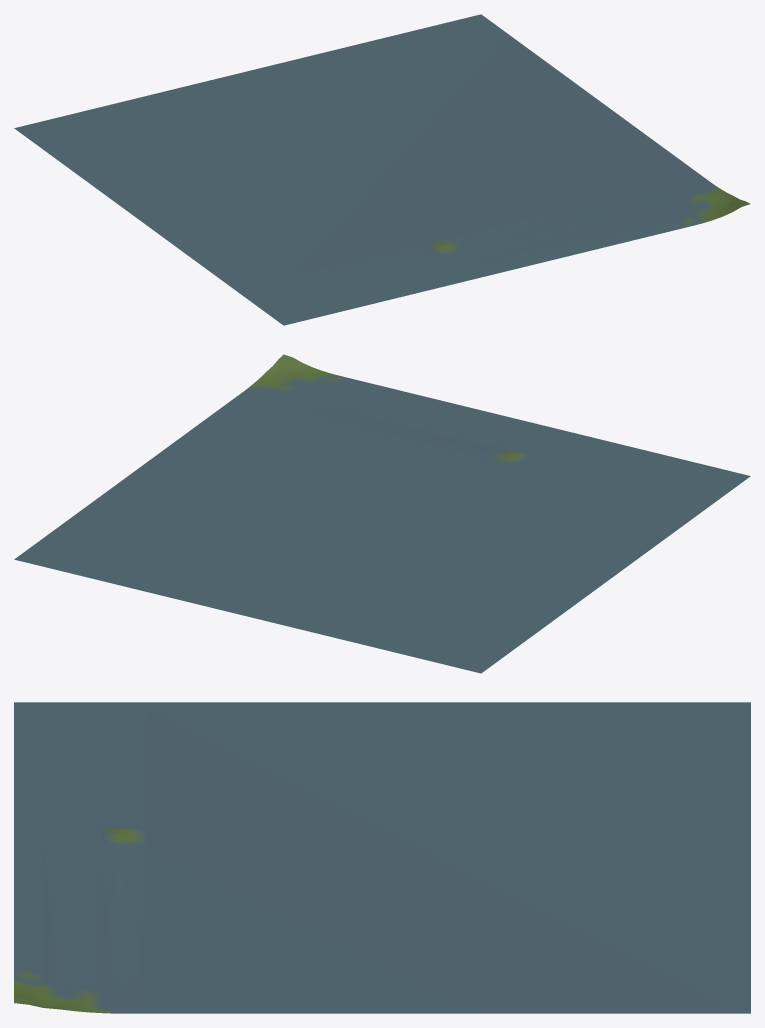
The picture shows the model from 3 angles, top to bottom: view 1: azimuth 30°, elevation 25°; view 2: azimuth 150°, elevation 25°; view 3: azimuth 270°, elevation 25°; orthographic projection. The views are drawn at different scales.
Parts seen in each view (by area): view 1: ground; view 2: ground; view 3: ground.
Part boxes in pixels (x1,y1,x2,y2): ground: [14, 14, 750, 325]; ground: [14, 354, 750, 673]; ground: [14, 702, 750, 1013].
Size of the model in its own units: 500 by 7.91 by 500.
